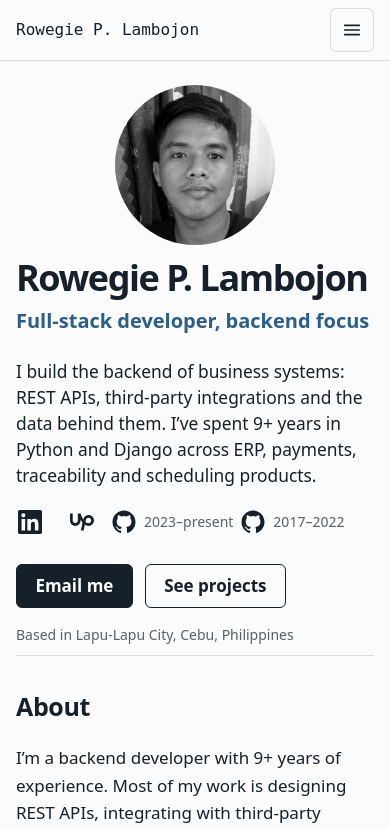
Test: menu button (phone drawer) › closes after choosing a link
The width and height of the screenshot is (390, 829).
Click the button named "Menu": coordinates (352, 30) [330,8,374,52]
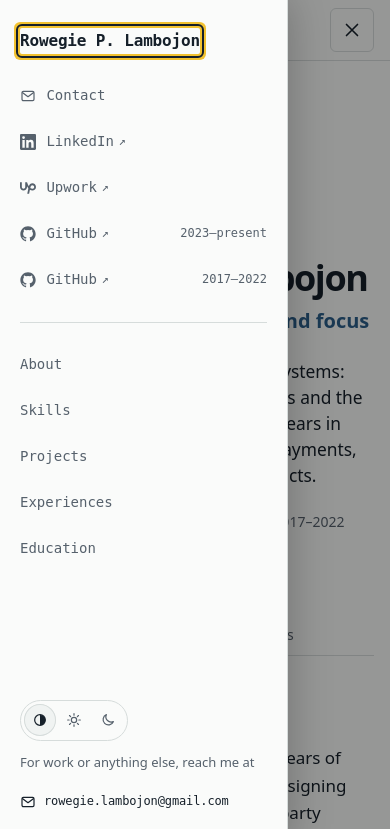
Click the link "Skills": coordinates (45, 410) [20,402,71,418]
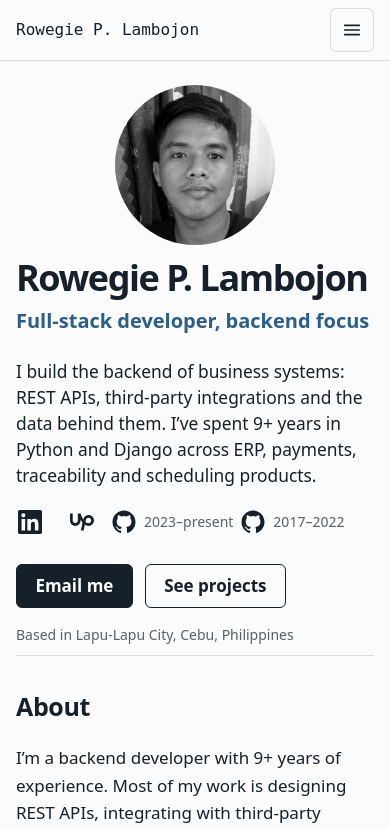
Check: the button named "Menu" is collapsed, box [330,8,374,52]
